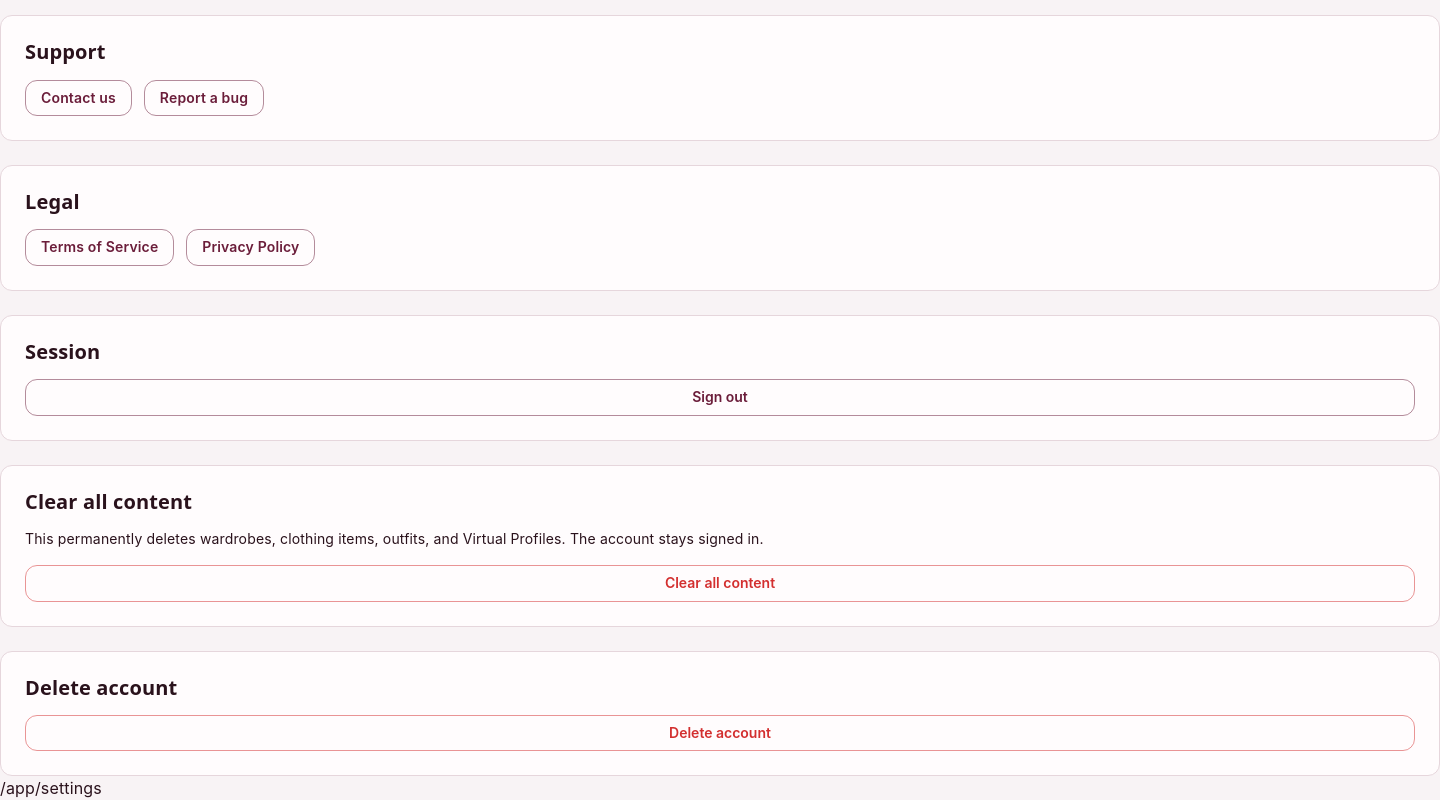
SettingsPage › clears all content after typing CLEAR and stays signed in
(page scrolled)
Click the button with aria-label "Clear all wardrobe content".
click(720, 583)  # box [25,565,1415,602]
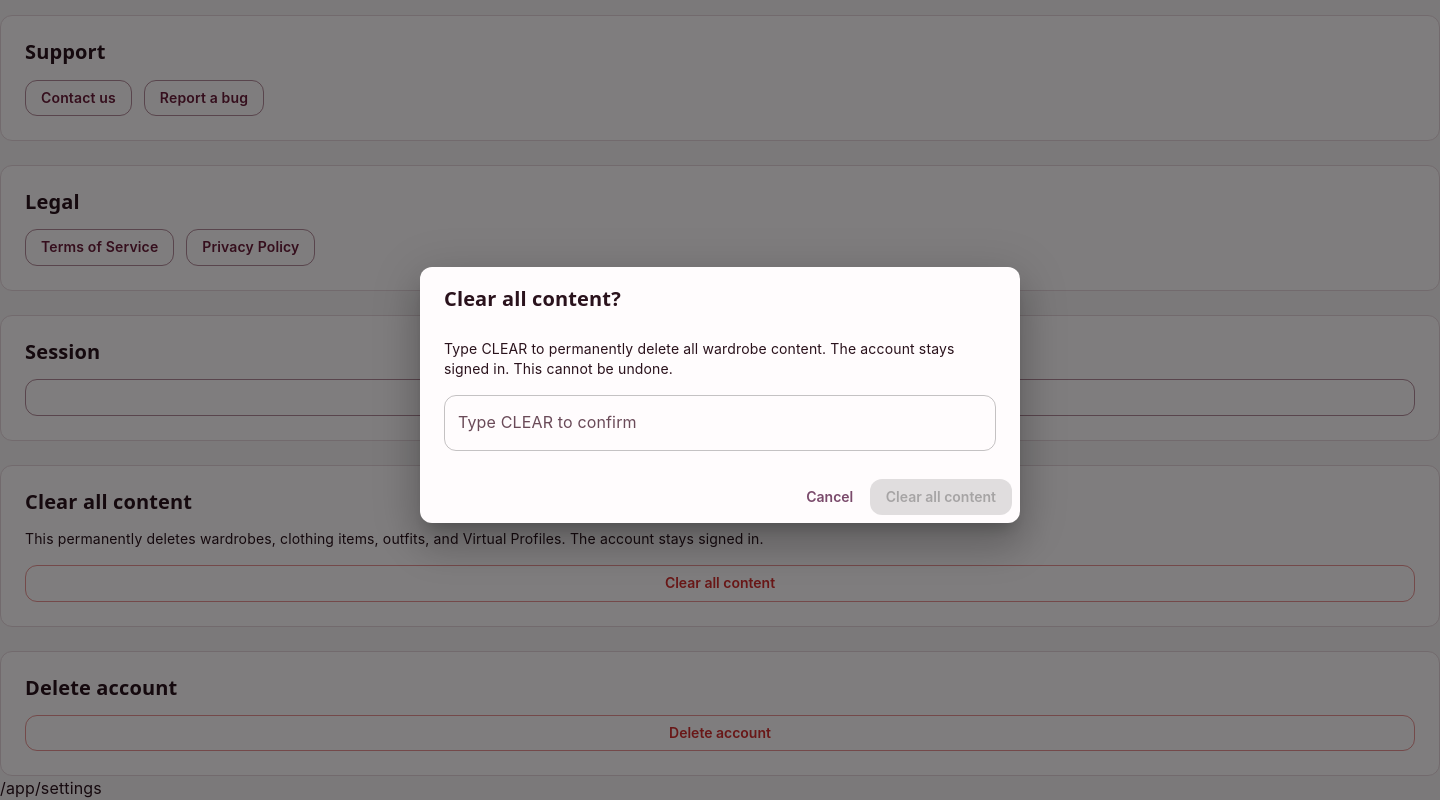
Result: the button "Clear all content" is disabled at [870,479,1012,515]
Type "CLEAR" into the field labelled "Type CLEAR to confirm".
click(720, 423); type("CLEAR")  # box [444,395,996,451]
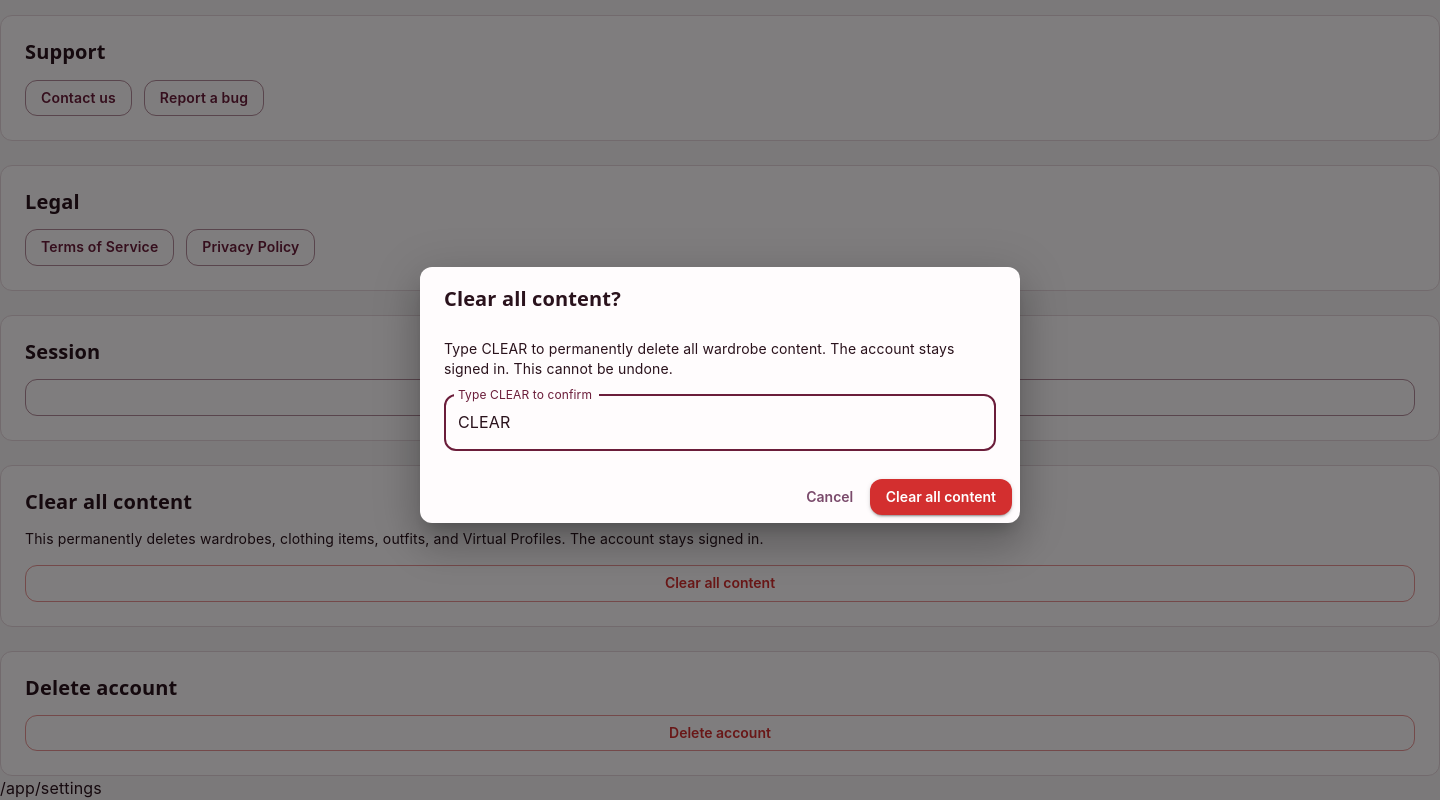
Click the button "Clear all content".
click(941, 497)  # box [870,479,1012,515]
(page scrolled)
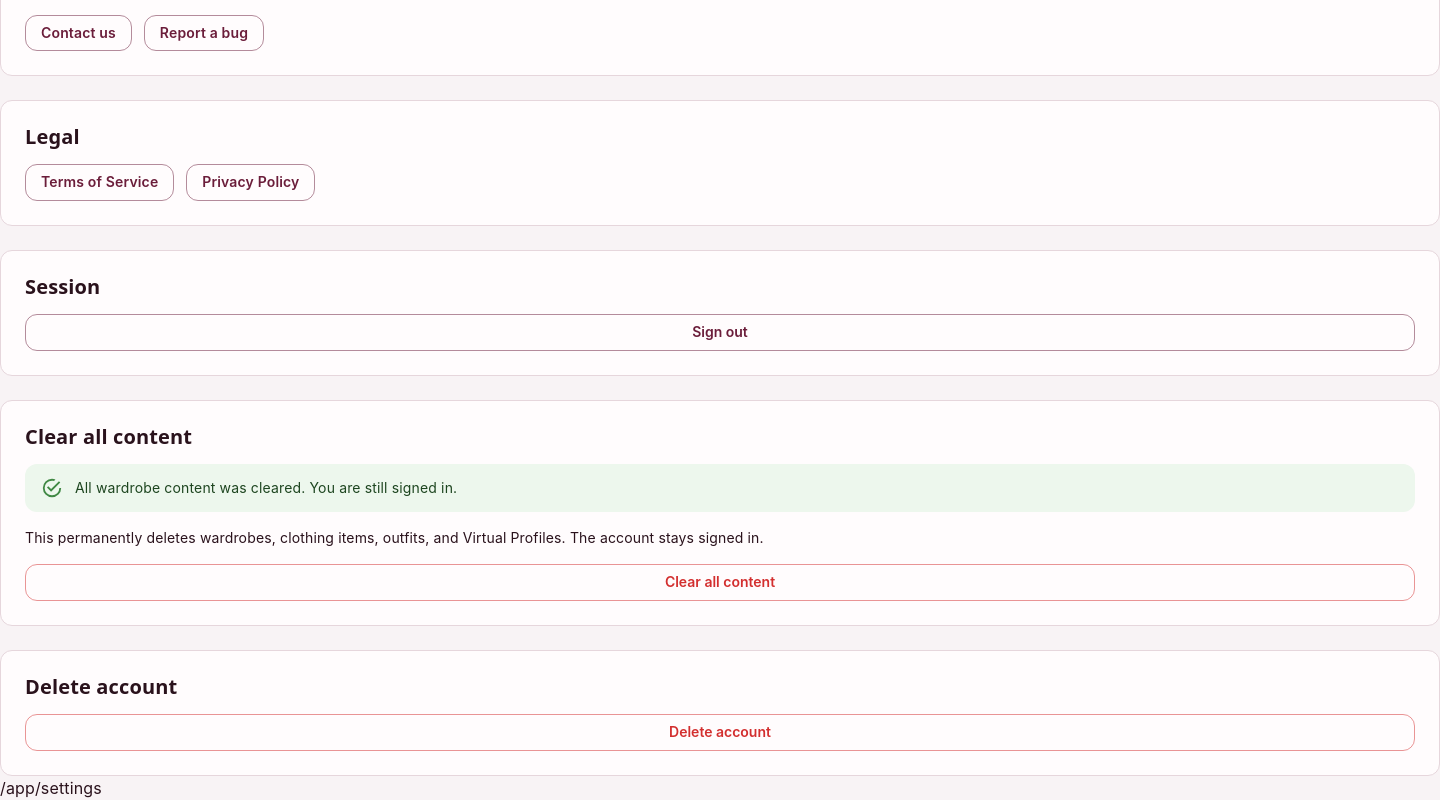
Expected: the text with test id "route-location" reads "/app/settings", [0,778,102,798]
Result: the text "All wardrobe content was cleared. You are still signed in." is shown at [75,479,457,496]
